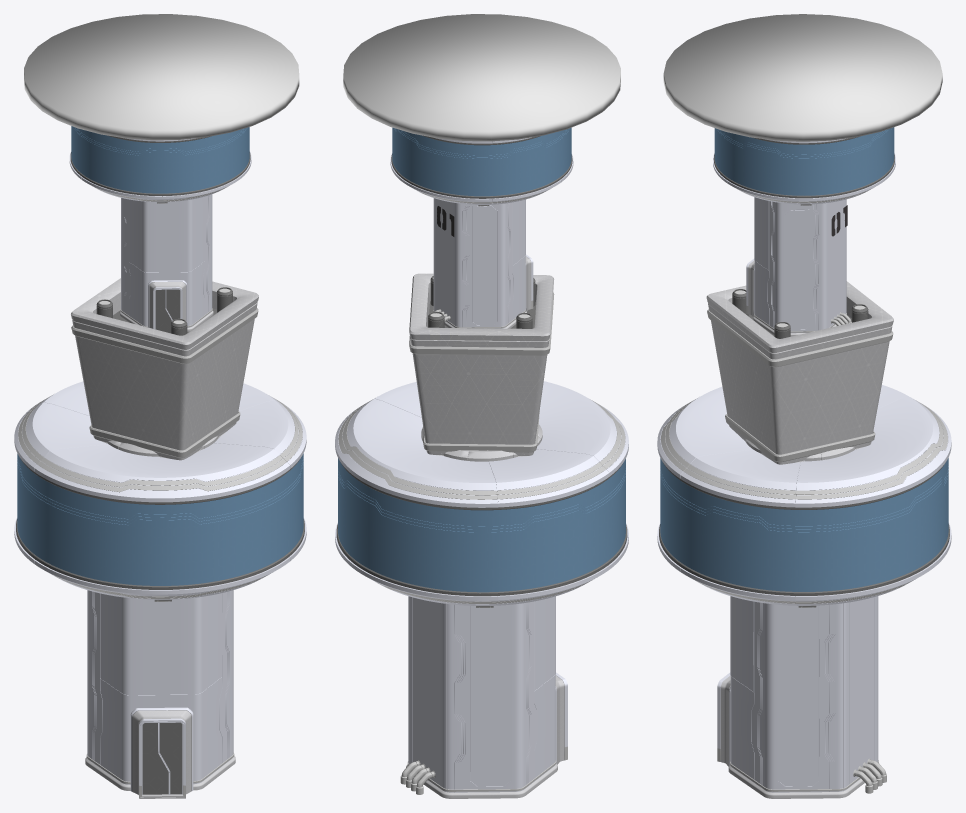
File: city.fbx
3 views of the same model, side by side, from view 1: azimuth 30°, elevation 25°; view 2: azimuth 150°, elevation 25°; view 3: azimuth 270°, elevation 25° (orthographic).
Parts seen in each view (by area): view 1: KB3D_HTS_BldgLG_D_ObservationDeck_1, KB3D_HTS_BldgLG_D_Main_1, Cylinder.012, KB3D_HTS_Planter_E_Main, KB3D_HTS_BldgLG_D_Main, KB3D_HTS_BldgLG_D_ObservationDeck; view 2: KB3D_HTS_BldgLG_D_ObservationDeck_1, KB3D_HTS_BldgLG_D_Main_1, Cylinder.012, KB3D_HTS_Planter_E_Main, KB3D_HTS_BldgLG_D_Main, KB3D_HTS_BldgLG_D_ObservationDeck; view 3: KB3D_HTS_BldgLG_D_ObservationDeck_1, KB3D_HTS_BldgLG_D_Main_1, Cylinder.012, KB3D_HTS_Planter_E_Main, KB3D_HTS_BldgLG_D_Main, KB3D_HTS_BldgLG_D_ObservationDeck.
Boxes of the visible parts, x1=… form: KB3D_HTS_BldgLG_D_ObservationDeck_1: x1=14, y1=381, x2=306, y2=601; KB3D_HTS_BldgLG_D_Main_1: x1=85, y1=590, x2=235, y2=798; Cylinder.012: x1=24, y1=14, x2=299, y2=140; KB3D_HTS_Planter_E_Main: x1=71, y1=278, x2=258, y2=460; KB3D_HTS_BldgLG_D_Main: x1=119, y1=194, x2=213, y2=333; KB3D_HTS_BldgLG_D_ObservationDeck: x1=69, y1=126, x2=251, y2=203; KB3D_HTS_BldgLG_D_ObservationDeck_1: x1=335, y1=381, x2=628, y2=607; KB3D_HTS_BldgLG_D_Main_1: x1=400, y1=596, x2=567, y2=798; Cylinder.012: x1=343, y1=14, x2=620, y2=141; KB3D_HTS_Planter_E_Main: x1=409, y1=273, x2=554, y2=456; KB3D_HTS_BldgLG_D_Main: x1=433, y1=198, x2=533, y2=328; KB3D_HTS_BldgLG_D_ObservationDeck: x1=390, y1=127, x2=573, y2=206; KB3D_HTS_BldgLG_D_ObservationDeck_1: x1=657, y1=385, x2=951, y2=607; KB3D_HTS_BldgLG_D_Main_1: x1=717, y1=596, x2=886, y2=798; Cylinder.012: x1=663, y1=14, x2=942, y2=141; KB3D_HTS_Planter_E_Main: x1=706, y1=281, x2=893, y2=464; KB3D_HTS_BldgLG_D_Main: x1=746, y1=197, x2=851, y2=336; KB3D_HTS_BldgLG_D_ObservationDeck: x1=713, y1=127, x2=895, y2=205.
Size of the model in its own units: 1616 by 4219 by 1613.
